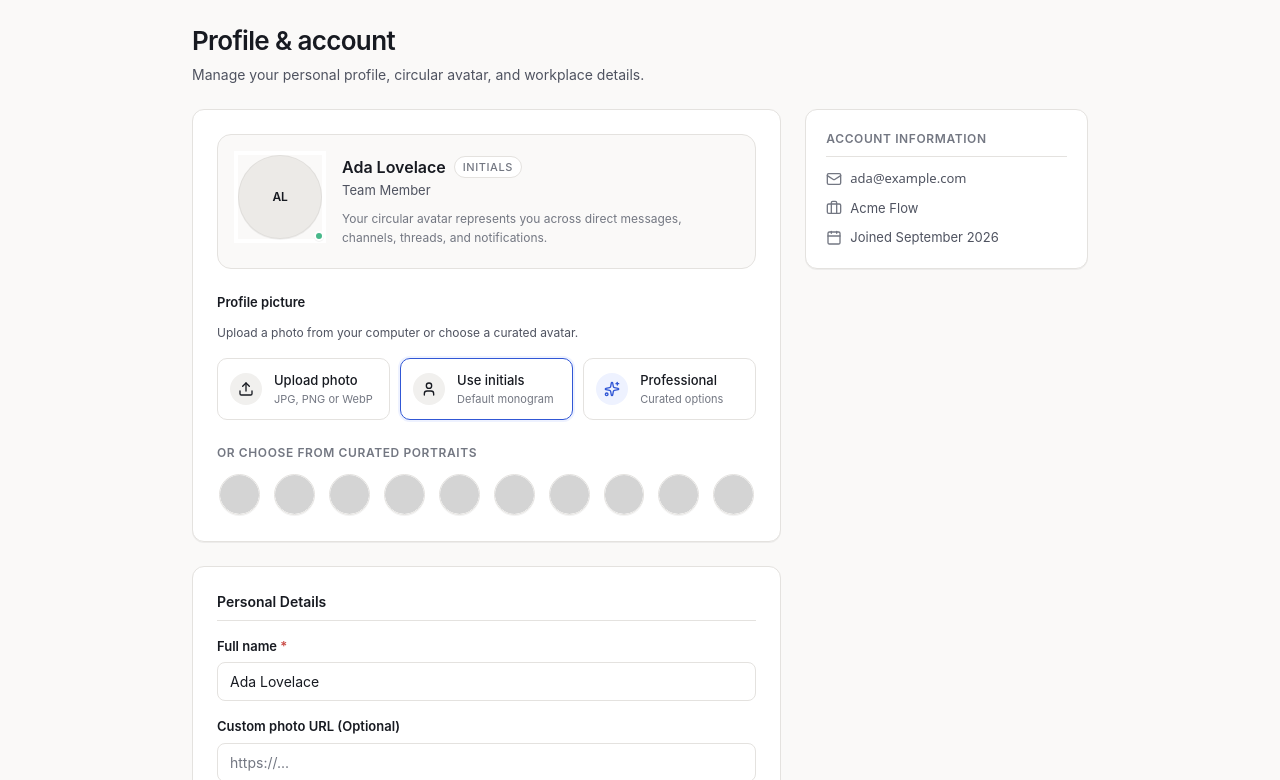
Test: SettingsProfileView › surfaces API validation errors without updating session
Replace the text in the field labelled "Full name *" with "New Name": {"x": 487, "y": 682} [218, 663, 755, 700]
(page scrolled)
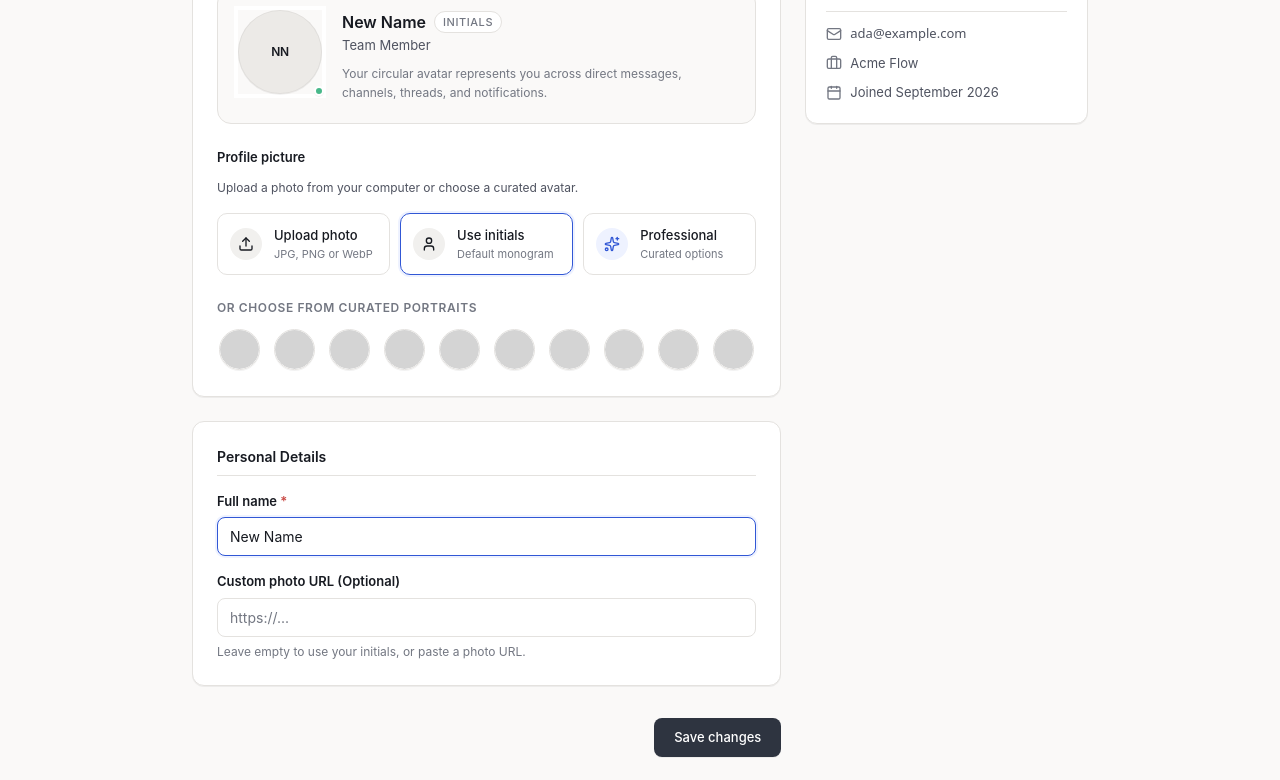
Click the button "Save changes": {"x": 718, "y": 738} [654, 718, 781, 757]
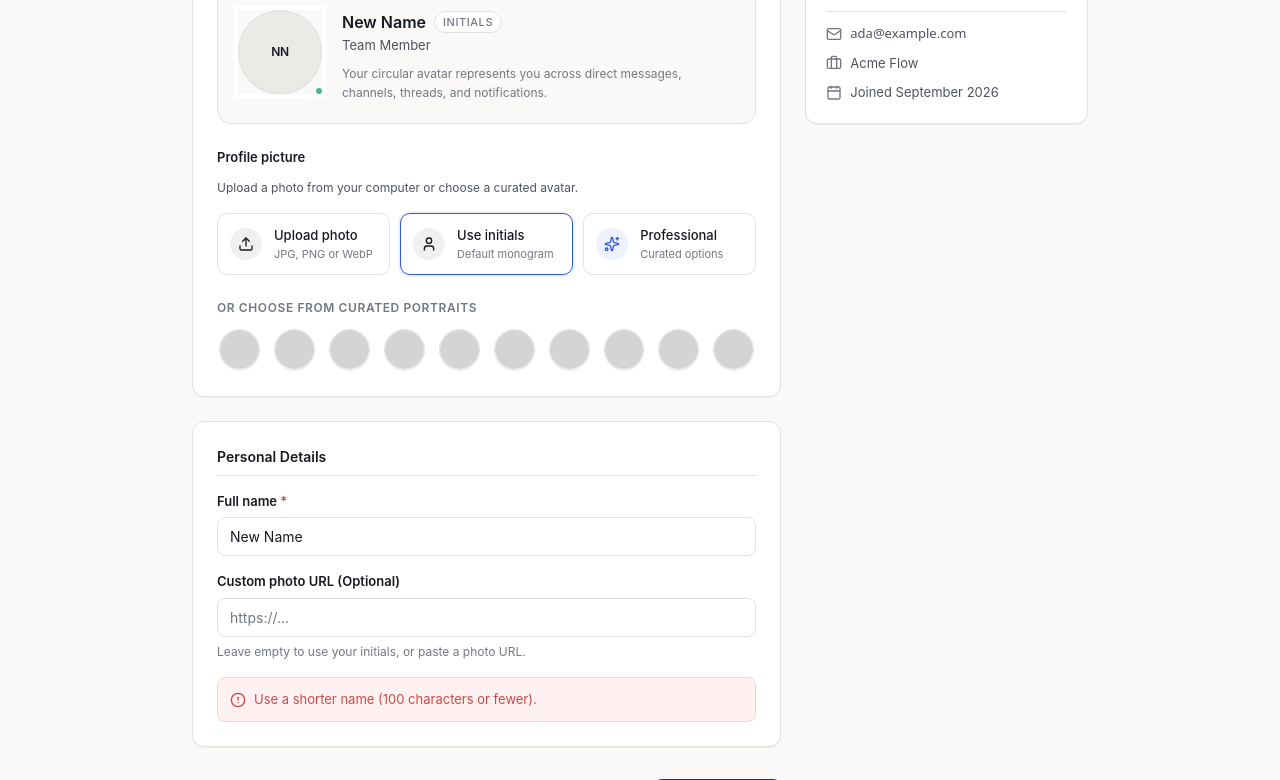
expect the text "Use a shorter name (100 characters or fewer)." is shown: met, box [254, 690, 537, 709]
